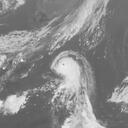cyclone: (49, 50, 95, 102)
